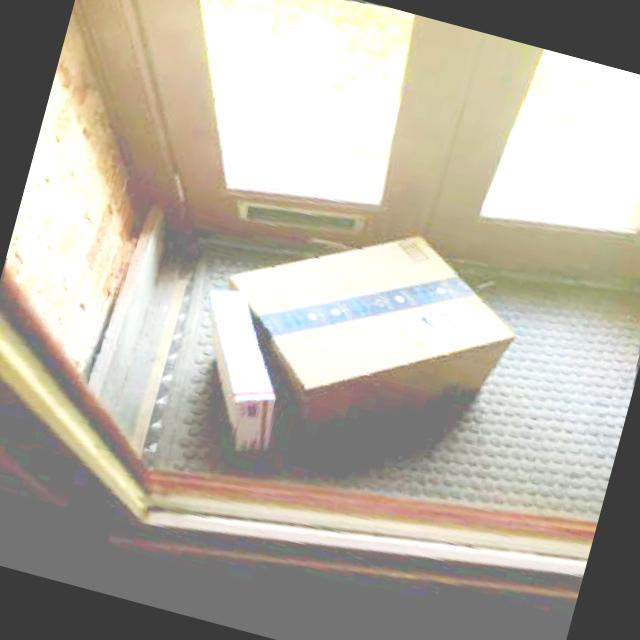Box: (183, 178, 548, 502), (166, 278, 310, 467)
